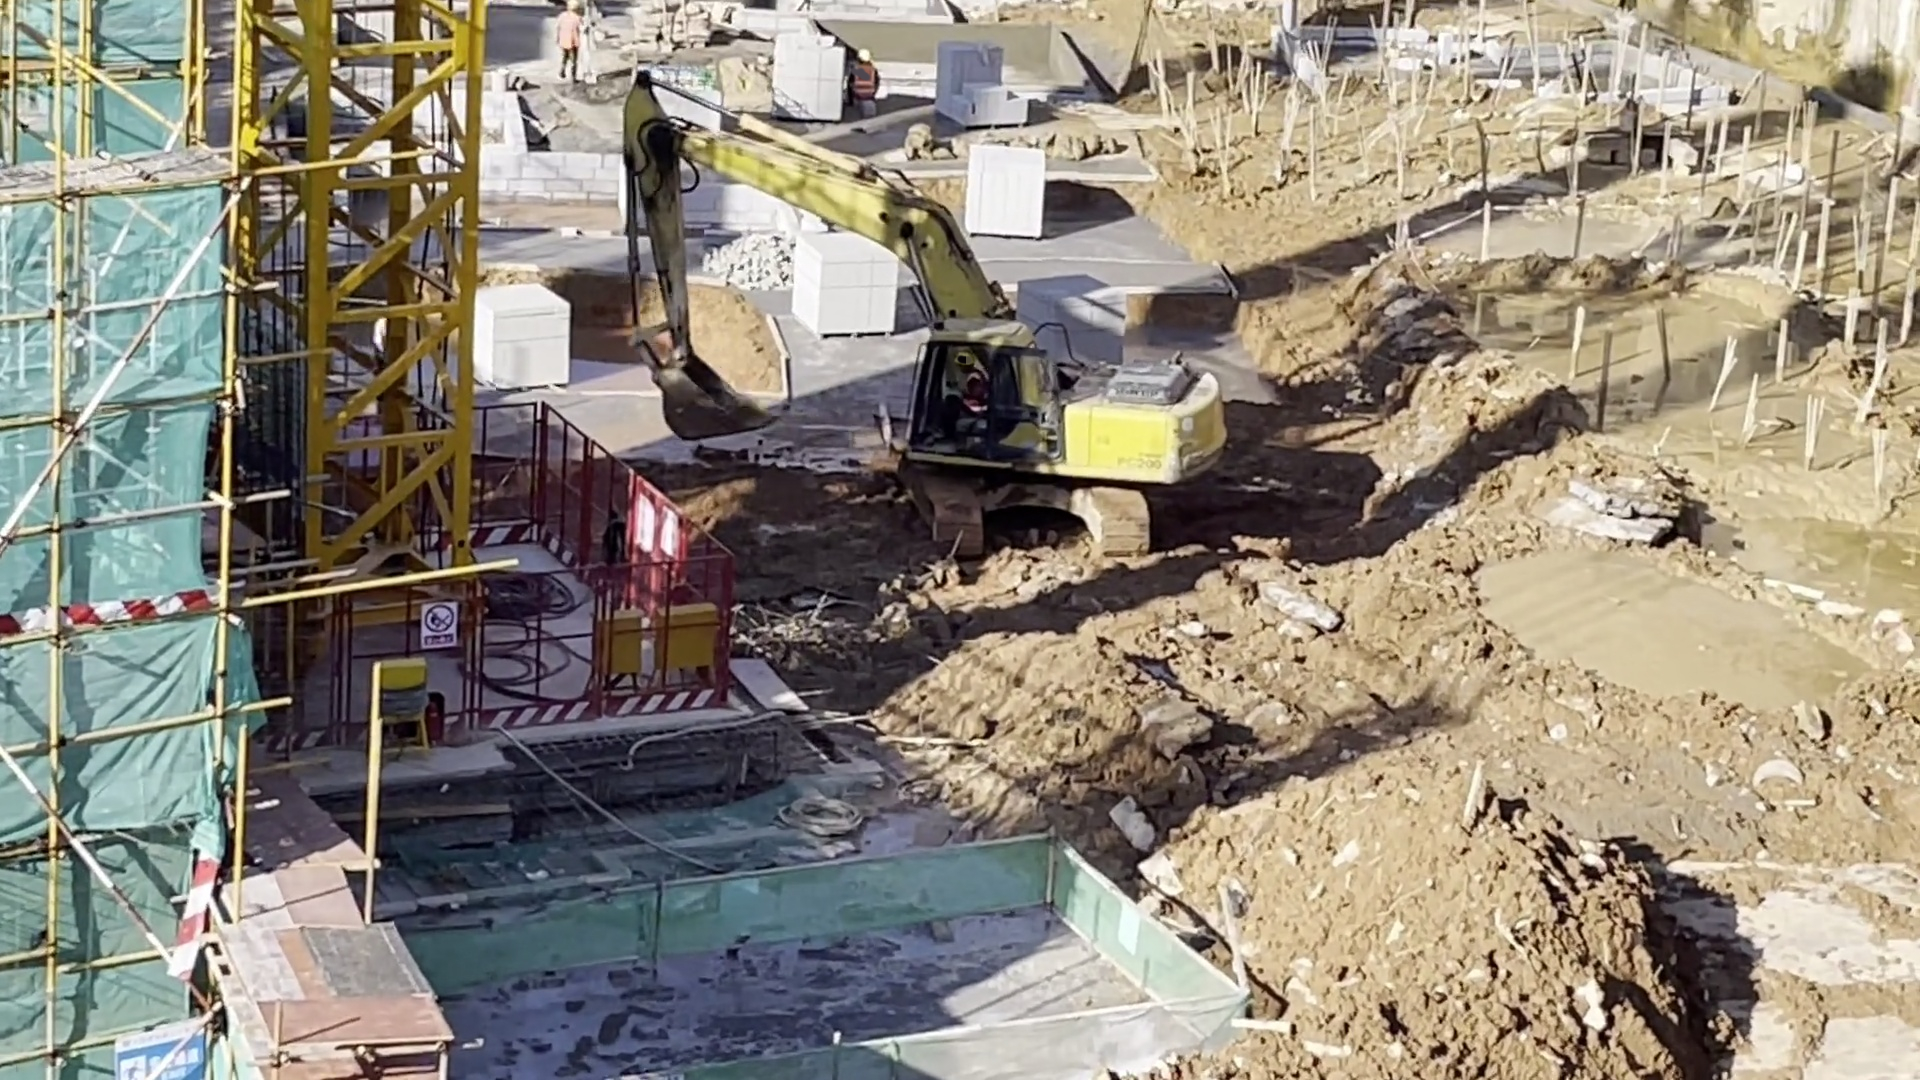brick: (795, 230, 893, 336), (1024, 282, 1127, 372), (475, 290, 568, 384), (973, 141, 1044, 241), (943, 52, 1020, 123), (775, 31, 835, 119)
ebox: (655, 615, 711, 672), (601, 615, 650, 674)
helmet: (952, 349, 976, 367), (855, 48, 875, 65)
person: (836, 45, 891, 126), (547, 5, 601, 89), (947, 346, 994, 427)
slogan: (116, 1037, 209, 1080), (420, 613, 460, 650)
vest: (551, 16, 582, 57), (960, 368, 984, 406), (851, 68, 876, 100)
